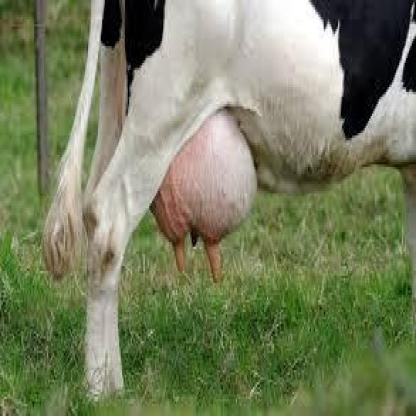cow: (48, 0, 415, 389)
